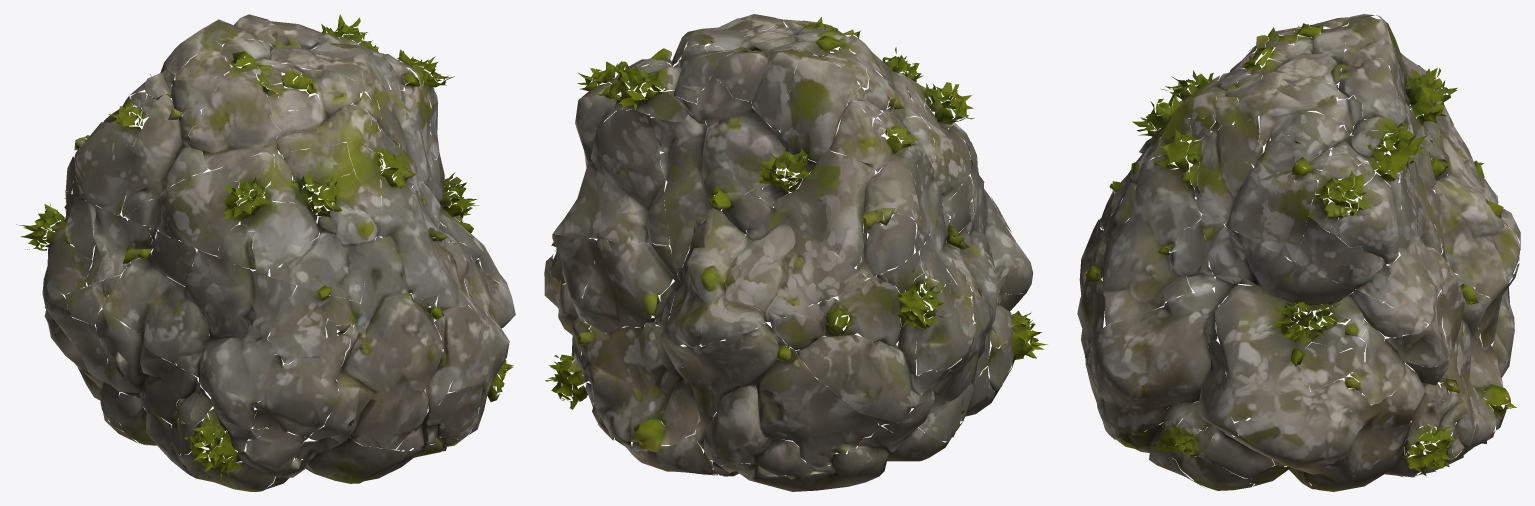
Rendered from env_boulder_moss_LOD1.glb.
3 renders of one model, left to right at view 1: azimuth 30°, elevation 25°; view 2: azimuth 150°, elevation 25°; view 3: azimuth 270°, elevation 25°, orthographic. The views are drawn at different scales.
Visible parts, largest first — view 1: tripo_node_5f5a647b-546c-43b3-a3c5-a81652d3ce2e; view 2: tripo_node_5f5a647b-546c-43b3-a3c5-a81652d3ce2e; view 3: tripo_node_5f5a647b-546c-43b3-a3c5-a81652d3ce2e.
Part boxes in pixels (x1,y1,x2,y2): tripo_node_5f5a647b-546c-43b3-a3c5-a81652d3ce2e: (16,14,515,491); tripo_node_5f5a647b-546c-43b3-a3c5-a81652d3ce2e: (544,14,1047,491); tripo_node_5f5a647b-546c-43b3-a3c5-a81652d3ce2e: (1077,14,1520,491).
Size of the model in its own units: 0.9956 by 0.8938 by 0.8842.
Materials: 1 (1 with a texture image).
